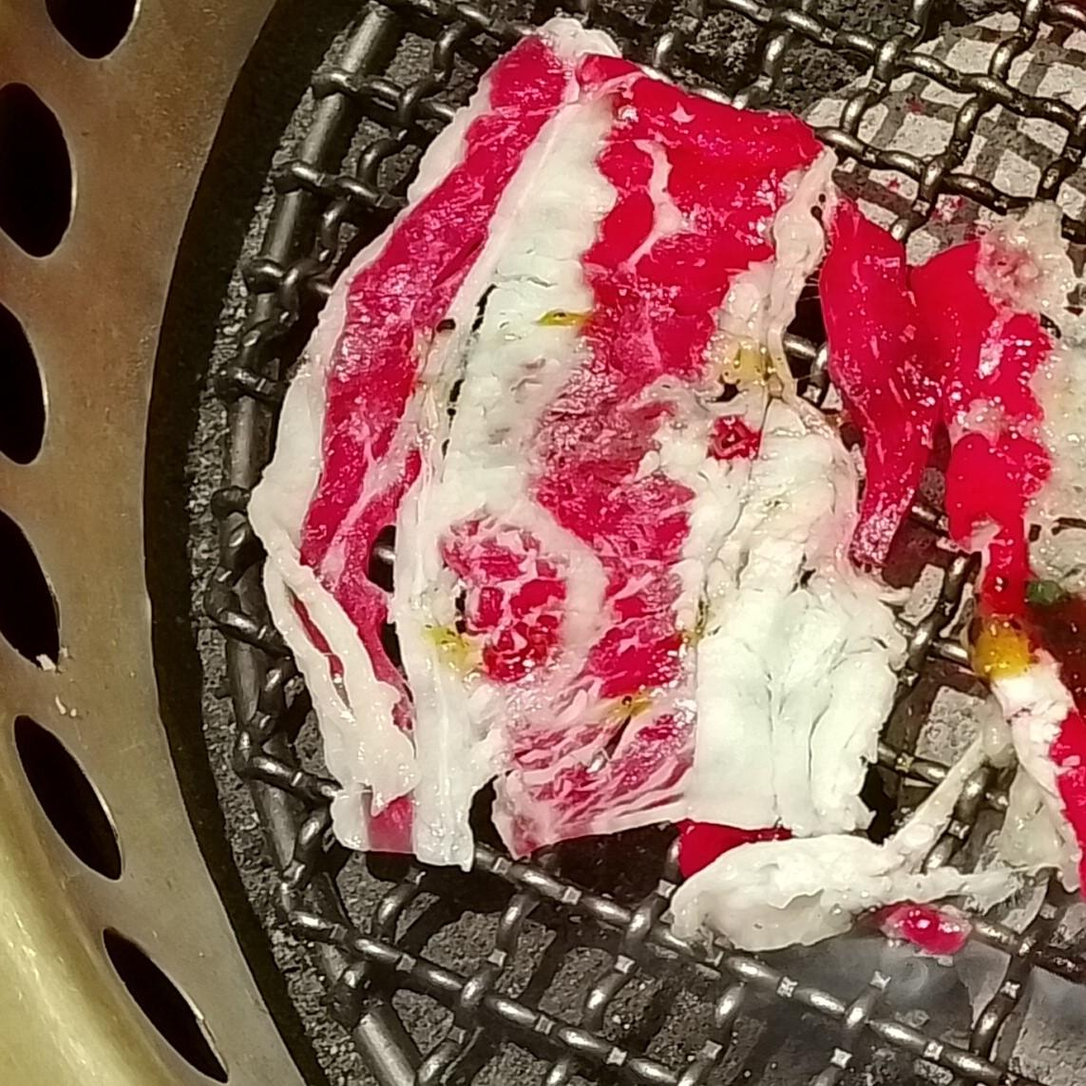Undercooked: (248, 18, 905, 950), (910, 205, 1085, 900)
